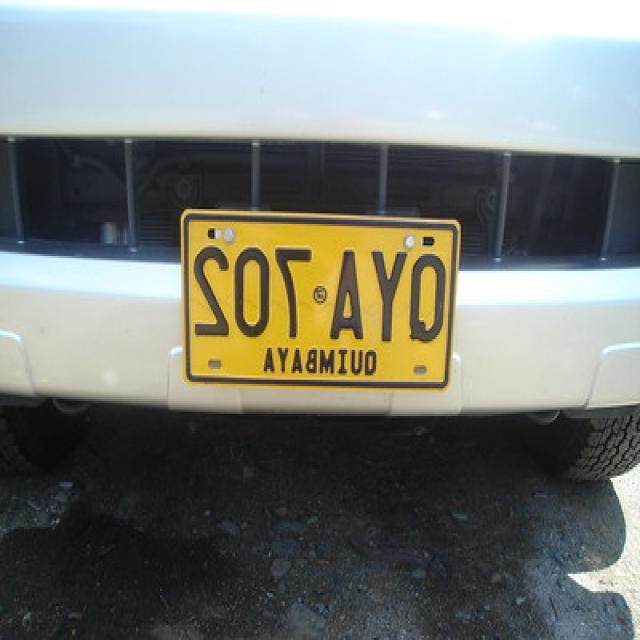placas: (185, 241, 451, 349)
